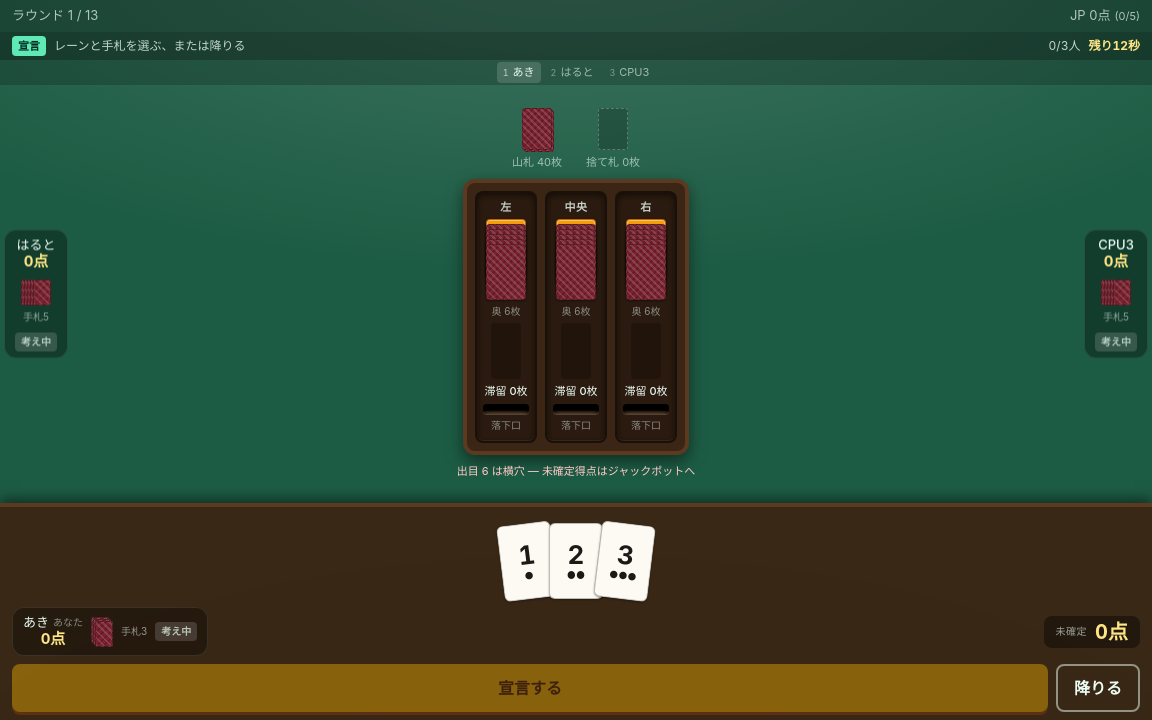
宣言（docs/realtime.md §8-3） › カードとレーンを選ぶまで宣言できない
Expected: the button "宣言する" is disabled, left=12, top=664, right=1048, bottom=712
Click the button named "1コイン札".
click(527, 561)  # box left=496, top=520, right=559, bottom=602
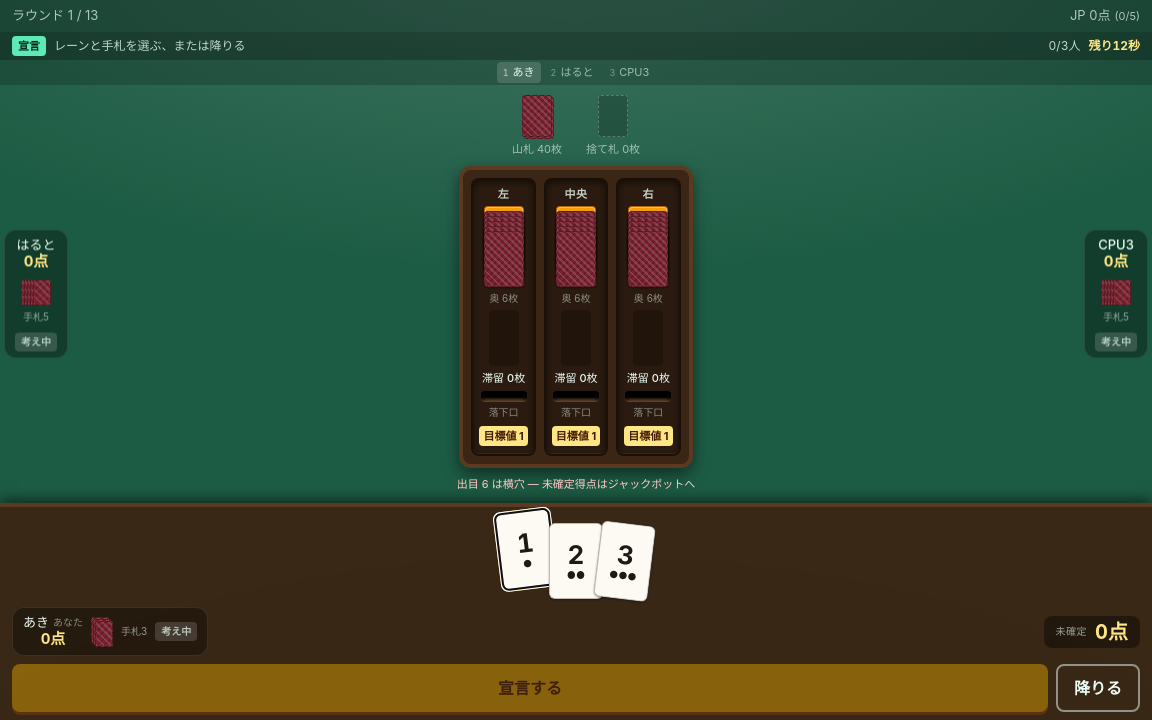
Expected: the button "宣言する" is disabled, left=12, top=664, right=1048, bottom=712
Click the button with aria-label "中央レーン".
click(576, 317)  # box left=544, top=178, right=608, bottom=456
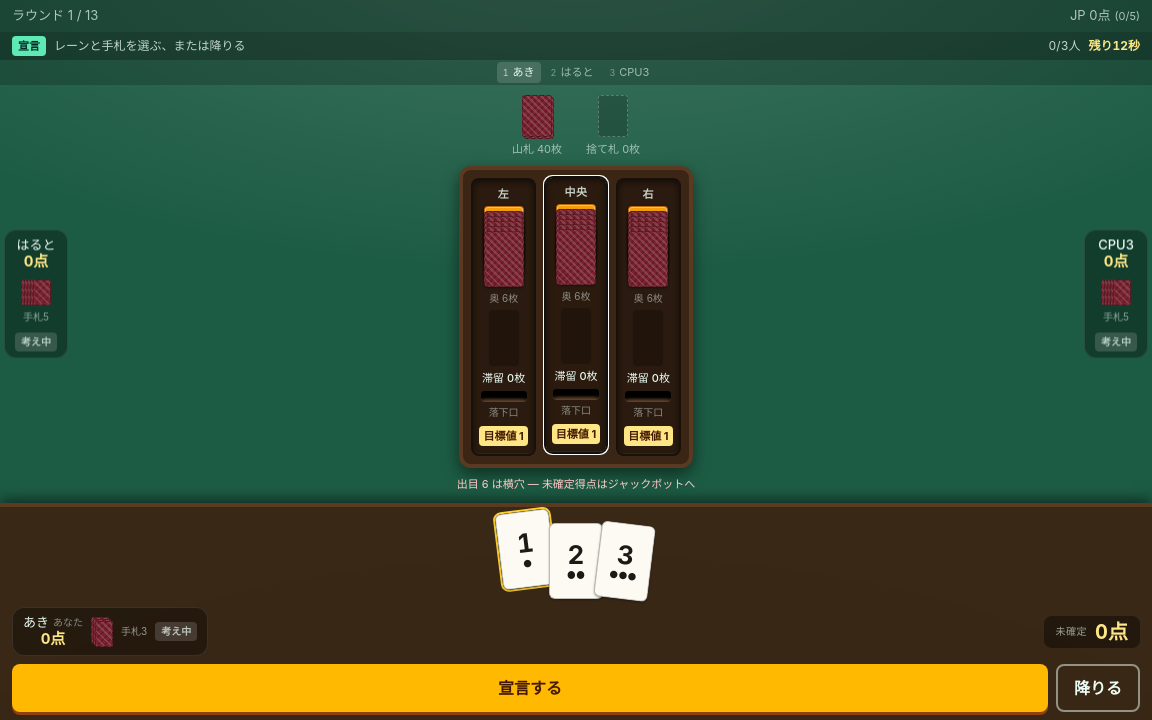
Expected: the button "宣言する" is enabled, left=12, top=664, right=1048, bottom=712
